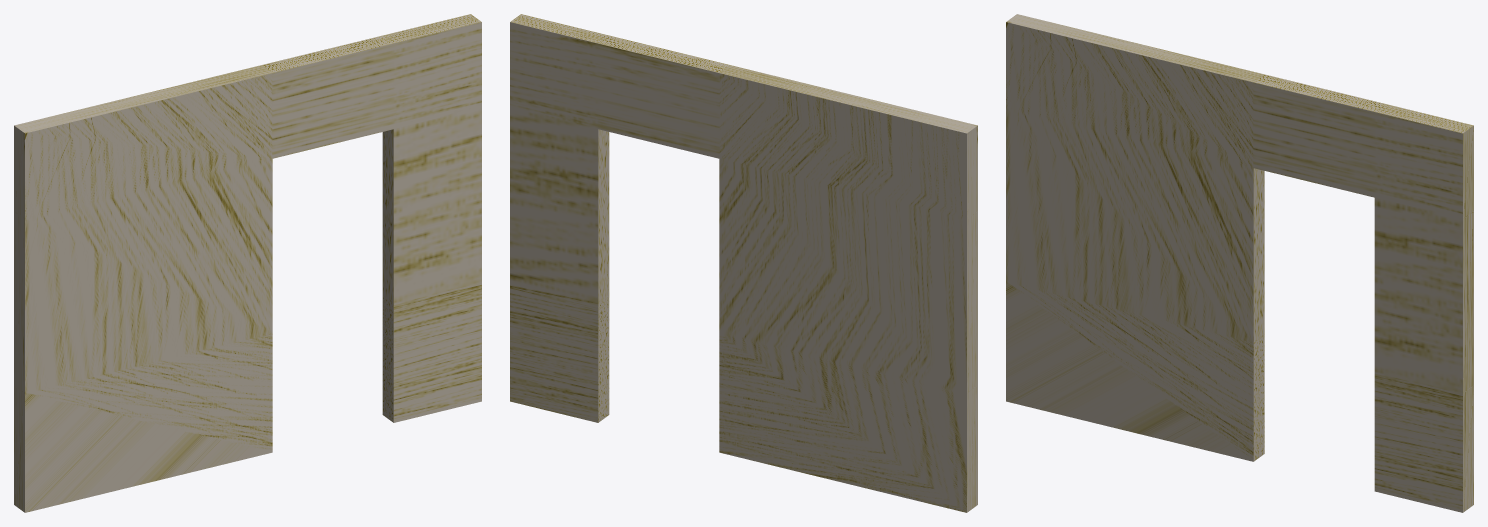
Rendered from ParedSM_paraPuerta.fbx.
3 views of the same model, side by side, from view 1: azimuth 30°, elevation 25°; view 2: azimuth 150°, elevation 25°; view 3: azimuth 330°, elevation 25° (orthographic).
Parts seen in each view (by area): view 1: ParedSalaMaestrosPuerta; view 2: ParedSalaMaestrosPuerta; view 3: ParedSalaMaestrosPuerta.
Boxes of the visible parts, x1,y1,x2,y2 form: ParedSalaMaestrosPuerta: (14,14,481,512); ParedSalaMaestrosPuerta: (510,14,977,512); ParedSalaMaestrosPuerta: (1006,14,1473,512).
Bounding box in the file's own units: 1107 × 879 × 46.3.
